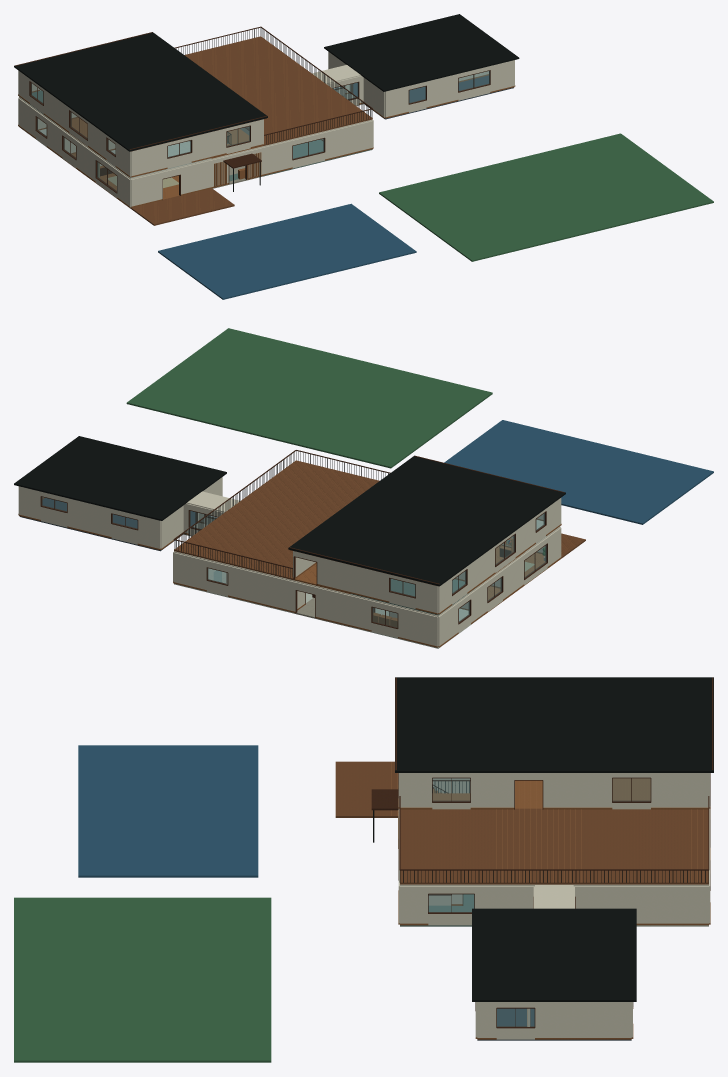
File: house-v3.glb
The picture shows the model from 3 angles, top to bottom: view 1: azimuth 30°, elevation 25°; view 2: azimuth 150°, elevation 25°; view 3: azimuth 270°, elevation 25°; orthographic projection. The views are drawn at different scales.
Visible parts, largest first — view 1: V2_house_metal.006, V2_house_court_green.006, V2_house_plaster.006, V2_house_court_blue.006, V2_house_deck.006, V2_house_walnut.006, V2_house_glass.006, V2_house_oak.006, V2_house_rubber.006, V2_house_carpet.006, V2_house_tile.006; view 2: V2_house_metal.006, V2_house_court_green.006, V2_house_plaster.006, V2_house_court_blue.006, V2_house_deck.006, V2_house_walnut.006, V2_house_glass.006, V2_house_oak.006, V2_house_tile.006, V2_house_rubber.006, V2_house_carpet.006; view 3: V2_house_metal.006, V2_house_court_green.006, V2_house_deck.006, V2_house_court_blue.006, V2_house_plaster.006, V2_house_oak.006, V2_house_walnut.006, V2_house_glass.006, V2_house_oak2.006, V2_house_rubber.006.
Part boxes in pixels (bbox=[...]): V2_house_metal.006: bbox=[14, 14, 519, 191]; V2_house_court_green.006: bbox=[379, 133, 713, 261]; V2_house_plaster.006: bbox=[18, 51, 514, 207]; V2_house_court_blue.006: bbox=[158, 203, 416, 299]; V2_house_deck.006: bbox=[130, 36, 372, 225]; V2_house_walnut.006: bbox=[15, 26, 490, 199]; V2_house_glass.006: bbox=[31, 71, 489, 191]; V2_house_oak.006: bbox=[18, 74, 515, 208]; V2_house_rubber.006: bbox=[353, 75, 513, 119]; V2_house_carpet.006: bbox=[19, 90, 372, 181]; V2_house_tile.006: bbox=[19, 127, 211, 178]; V2_house_metal.006: bbox=[14, 436, 565, 586]; V2_house_court_green.006: bbox=[126, 328, 492, 468]; V2_house_plaster.006: bbox=[18, 477, 561, 647]; V2_house_court_blue.006: bbox=[444, 420, 713, 524]; V2_house_deck.006: bbox=[174, 460, 585, 580]; V2_house_walnut.006: bbox=[40, 450, 564, 628]; V2_house_glass.006: bbox=[42, 497, 546, 627]; V2_house_oak.006: bbox=[18, 497, 561, 647]; V2_house_tile.006: bbox=[174, 520, 560, 648]; V2_house_rubber.006: bbox=[19, 498, 195, 551]; V2_house_carpet.006: bbox=[350, 579, 478, 615]; V2_house_metal.006: bbox=[373, 677, 713, 1001]; V2_house_court_green.006: bbox=[14, 897, 271, 1062]; V2_house_deck.006: bbox=[335, 761, 708, 884]; V2_house_court_blue.006: bbox=[78, 745, 258, 877]; V2_house_plaster.006: bbox=[398, 773, 710, 1039]; V2_house_oak.006: bbox=[398, 778, 710, 1039]; V2_house_walnut.006: bbox=[371, 677, 713, 1028]; V2_house_glass.006: bbox=[429, 778, 650, 1026]; V2_house_oak2.006: bbox=[391, 762, 703, 882]; V2_house_rubber.006: bbox=[477, 1008, 631, 1040].
Size of the model in its own units: 58 by 7.31 by 54.4.
22 materials, 9 textured.
